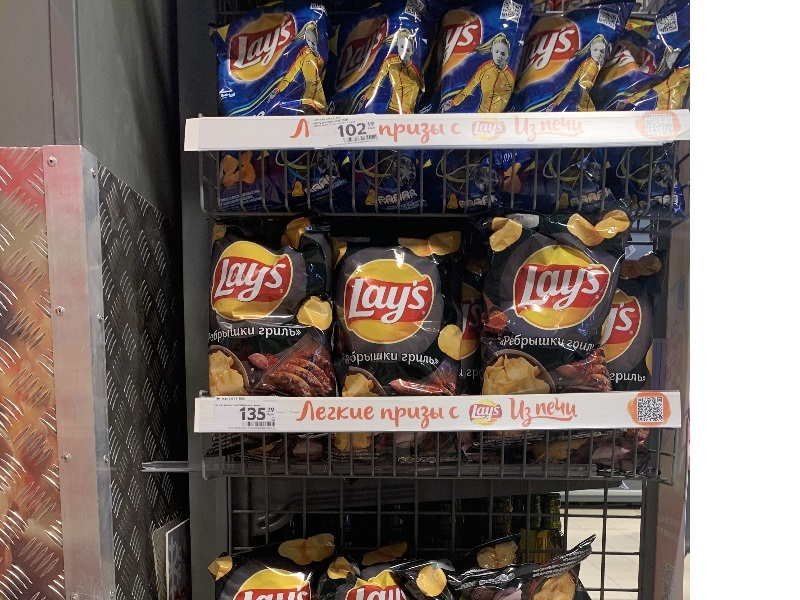chips: (467, 206, 626, 395), (203, 15, 339, 212), (201, 214, 341, 403), (324, 219, 469, 401)
